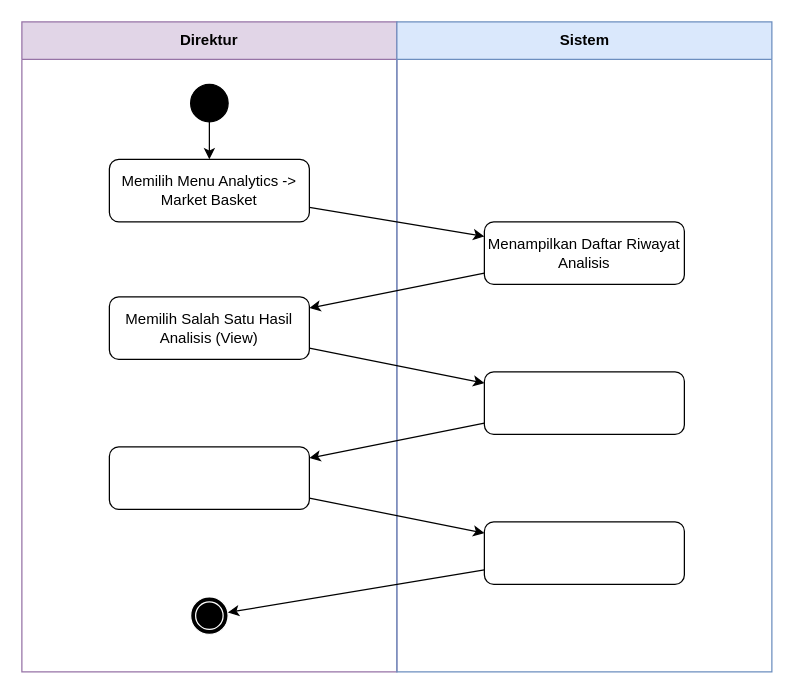
Image size: 794x694. Some labels were removed from this diagram. Each missing label, with the centre of its shape:
Memproses & Mengirim File Laporan: pixel 583 552
Menampilkan Detail Rules & Metrik: pixel 583 402
Menekan Tombol Export/Download PDF: pixel 208 477
